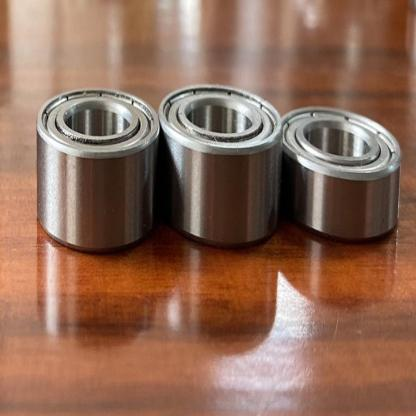FOD: (157, 79, 284, 255), (32, 86, 160, 254), (278, 101, 404, 248)
